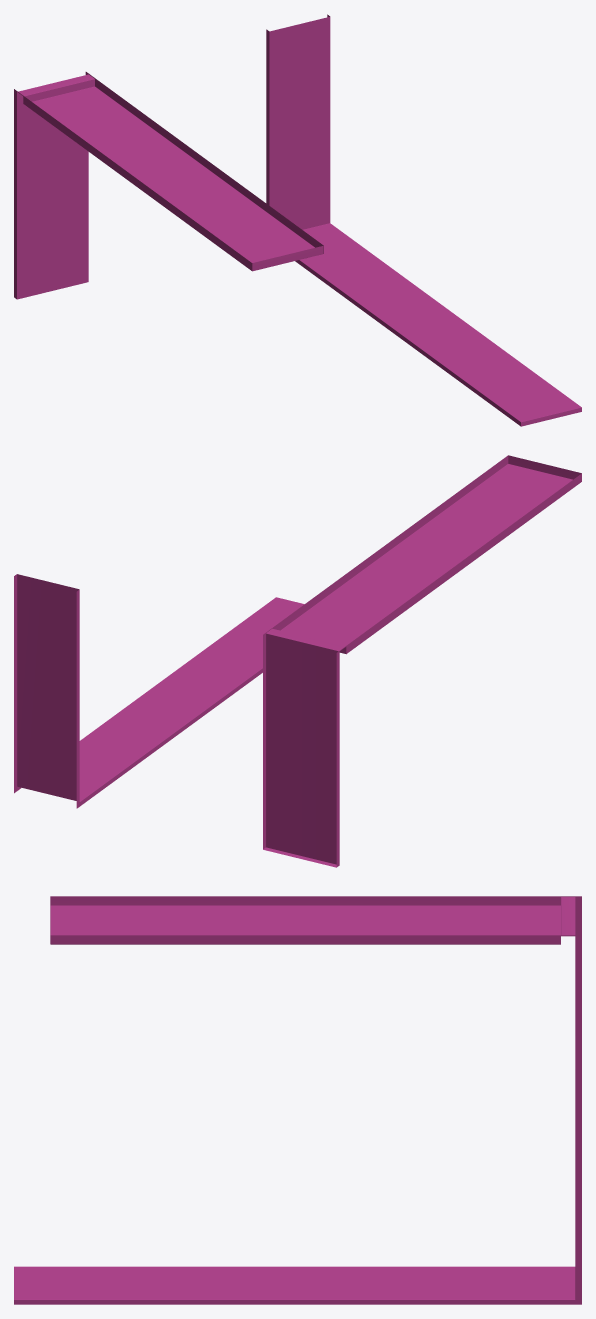
The model's file is WoodWall_01_Mesh.fbx.
The picture shows the model from 3 angles, top to bottom: view 1: azimuth 30°, elevation 25°; view 2: azimuth 150°, elevation 25°; view 3: azimuth 270°, elevation 25°; orthographic projection. The views are drawn at different scales.
Parts seen in each view (by area): view 1: woodWall_01; view 2: woodWall_01; view 3: woodWall_01.
Boxes of the visible parts, <box> form: woodWall_01: <box>14,14,581,426</box>; woodWall_01: <box>14,455,581,867</box>; woodWall_01: <box>14,896,581,1304</box>.
Bounding box in the file's own units: 520 × 338 × 731.
